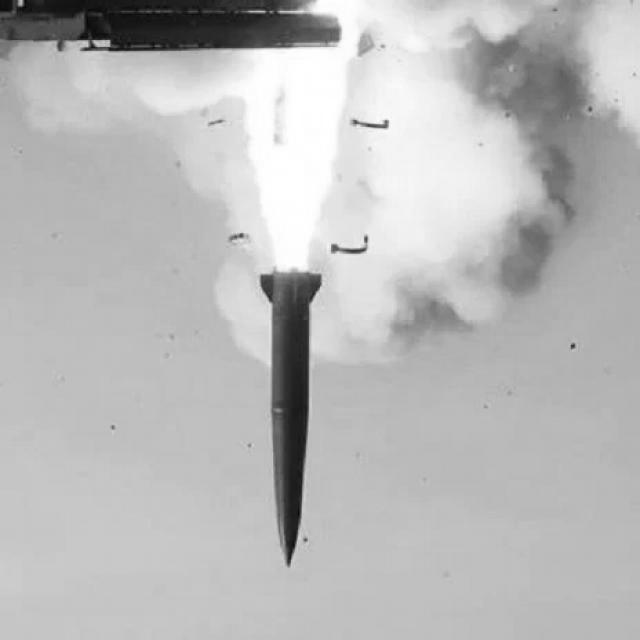Missile: (249, 255, 331, 566)
